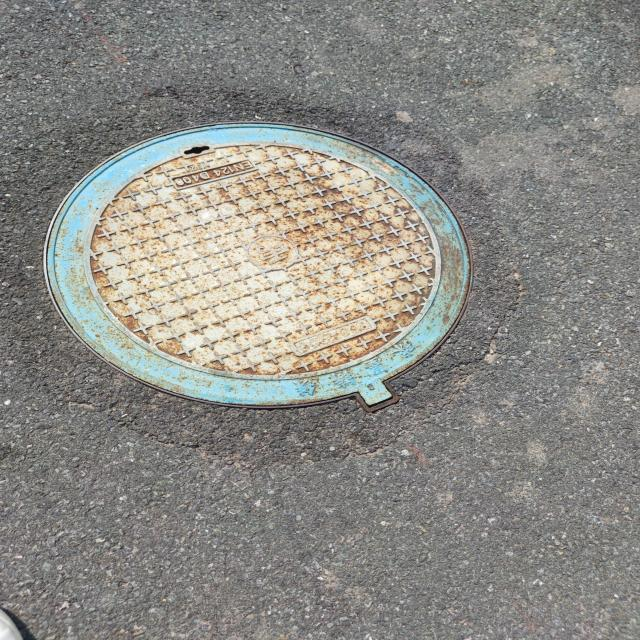Good: (36, 118, 485, 418)
